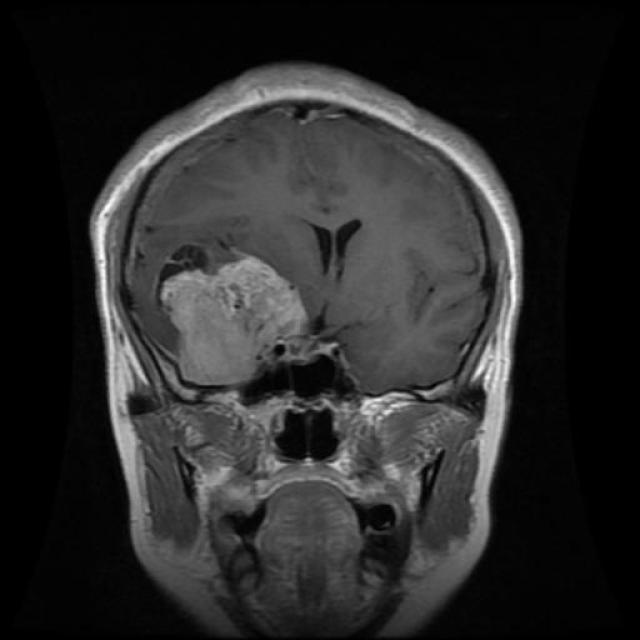Tumor: (158, 256, 314, 392)
